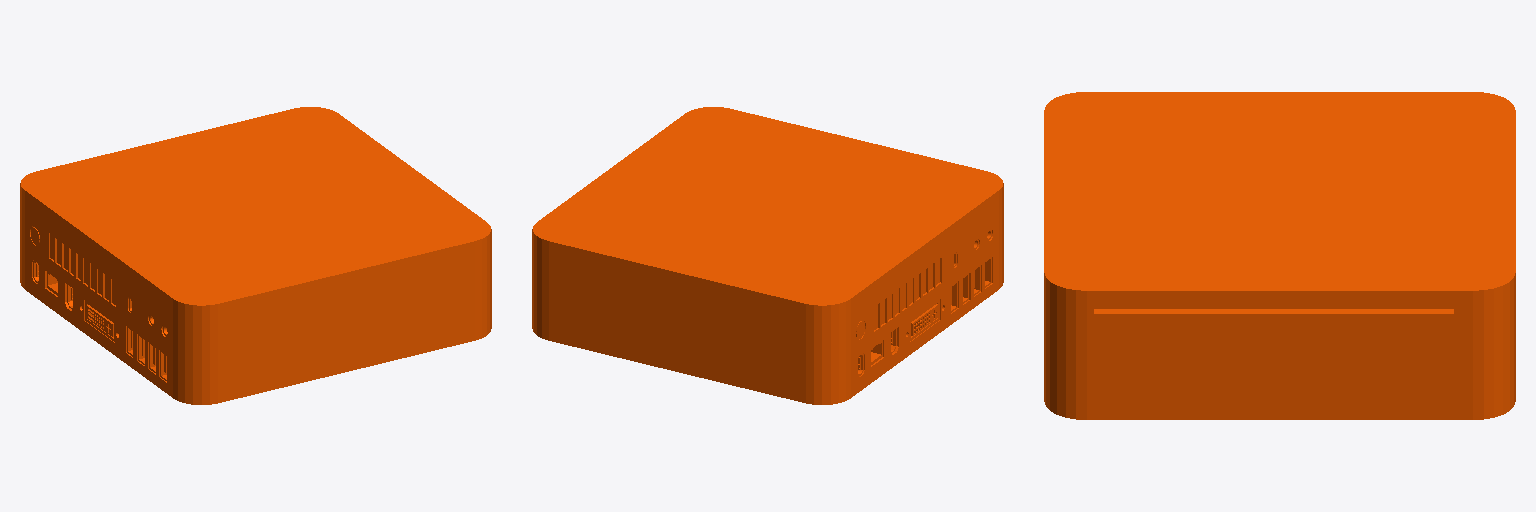
The robot description file, URDF, robot "Desktop_dfd631fc1aed5f94d2cbf79f2824de0":
<?xml version="1.0" ?>
<robot name="Desktop_dfd631fc1aed5f94d2cbf79f2824de0">
   <material name="obj_color">
      <color rgba="1.0 0.423529411765 0.0392156862745 1.0"/>
   </material>
   <link name="top">
      <inertial>
         <origin rpy="0.0416469270049569 0.0416472119851995 0.07620364494548974" xyz="0.01034252936546225 -0.0003799788767282675 0.0003689999999999963"/>
         <mass value="6.127853517407939"/>
         <inertia ixx="0.0416472119851995" ixy="-6.492762131676633e-13" ixz="-2.496761960930059e-19" iyy="0.04164692700495688" iyz="-4.158567811549091e-19" izz="0.07620364494548974"/>
      </inertial>
      <visual>
         <origin rpy="0 0 0" xyz="0 0 0"/>
         <geometry>
            <mesh filename="top_watertight_tiny.stl" scale="1 1 1"/>
         </geometry>
         <material name="obj_color"/>
      </visual>
      <collision>
         <origin rpy="0 0 0" xyz="0 0 0"/>
         <geometry>
            <mesh filename="top_watertight_tiny.obj" scale="1 1 1"/>
         </geometry>
      </collision>
   </link>
   <link name="bottom">
      <inertial>
         <origin rpy="1.633333333199431e-08 1.633333333199431e-08 1.633333333362855e-08" xyz="0.3464080000000008 0.3464080000000008 0.3464080000000008"/>
         <mass value="0.0009800000000000017"/>
         <inertia ixx="1.633333333253906e-08" ixy="5.447480642029219e-19" ixz="5.447480642029219e-19" iyy="1.633333333253906e-08" iyz="5.447480642029219e-19" izz="1.633333333253906e-08"/>
      </inertial>
      <visual>
         <origin rpy="0 0 0" xyz="0 0 0"/>
         <geometry>
            <mesh filename="bottom_watertight_tiny.stl" scale="1 1 1"/>
         </geometry>
         <material name="obj_color"/>
      </visual>
   </link>
   <link name="world"/>
   <joint name="world_to_base" type="fixed">
      <origin xyz="0 0 0"/>
      <axis xyz="0 0 0"/>
      <parent link="world"/>
      <child link="bottom"/>
   </joint>
   <joint name="rotation" type="revolute">
      <origin xyz="0 0 0"/>
      <axis xyz="0 0 -1"/>
      <parent link="bottom"/>
      <child link="top"/>
      <dynamics damping="1.0" friction="1.0"/>
      <limit effort="0.1" velocity="0.1" lower="0" upper="0.001"/>
   </joint>
</robot>

--- What the picture shows (computed from the rendered views, not written in the file) ---
The picture shows the robot from 3 angles, left to right: view 1: azimuth 30°, elevation 25°; view 2: azimuth 150°, elevation 25°; view 3: azimuth 270°, elevation 25°; orthographic projection.
Model Desktop_dfd631fc1aed5f94d2cbf79f2824de0 with 3 links and 2 joints (1 revolute, 1 fixed), rooted at world, posed all joints at 0.
Links seen in each view (by area): view 1: top; view 2: top; view 3: top.
Link boxes in pixels (<box>): top: <box>20,107,491,404</box>; top: <box>532,107,1003,404</box>; top: <box>1044,92,1515,419</box>.
Size in the robot's own frame: 0.275 by 0.275 by 0.0833 metres.
1 mesh visuals loaded from 2 distinct referenced files (1 binary STL); not drawn: 1 (reference not matched to a file when rendering).
